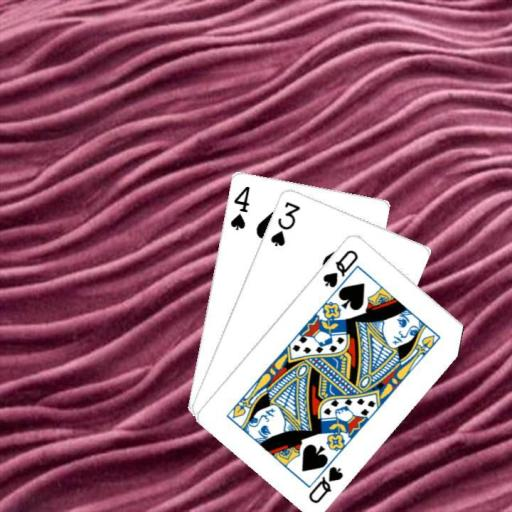3S: (267, 198, 302, 248)
4S: (227, 182, 251, 231)
QS: (319, 246, 360, 289), (305, 462, 345, 505)
